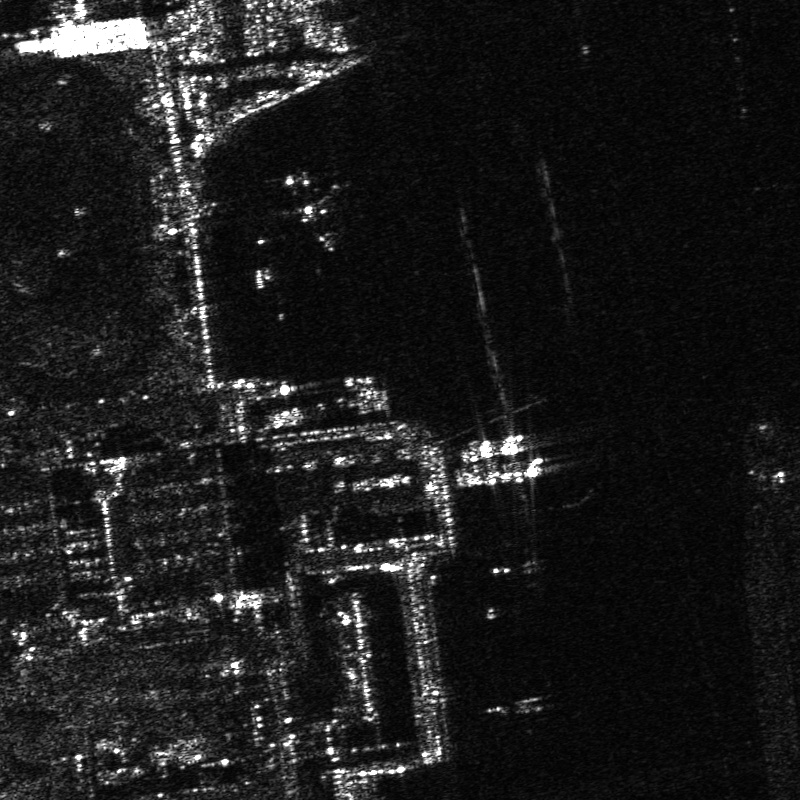Boeing787: (257, 159, 349, 254)
